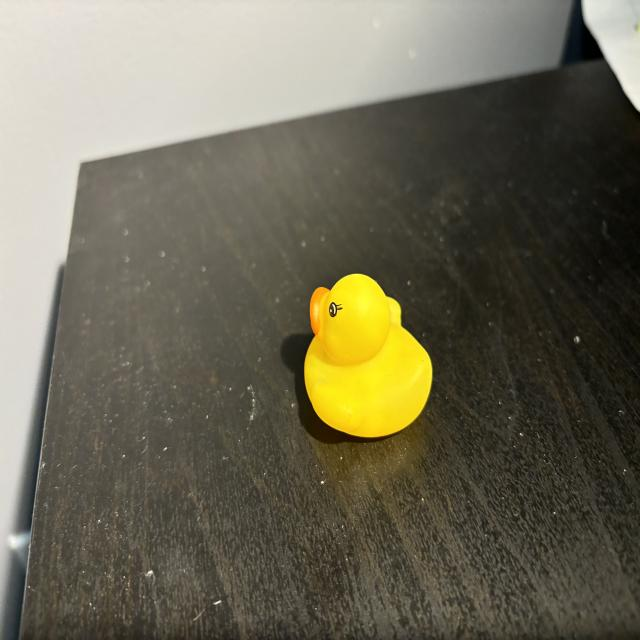duck_regular: (306, 273, 433, 438)
